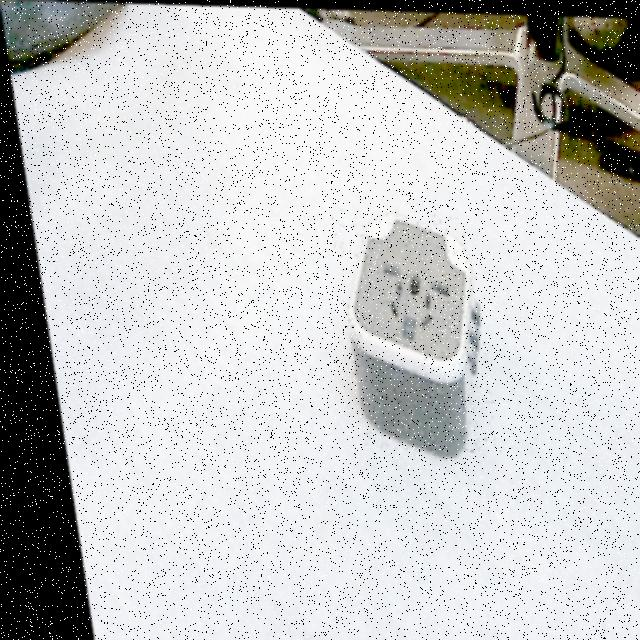adapter: (322, 207, 489, 456)
